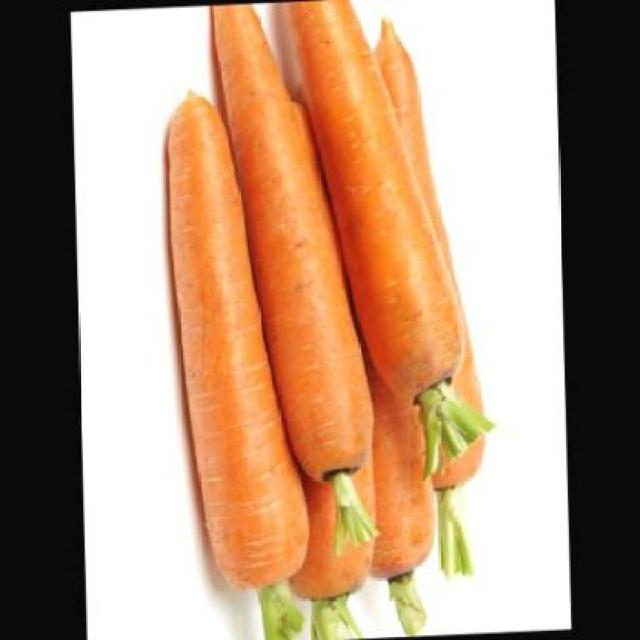carrot: (209, 0, 376, 492), (283, 0, 466, 415), (162, 83, 310, 594), (288, 95, 437, 583), (364, 13, 487, 490), (280, 443, 378, 603)
